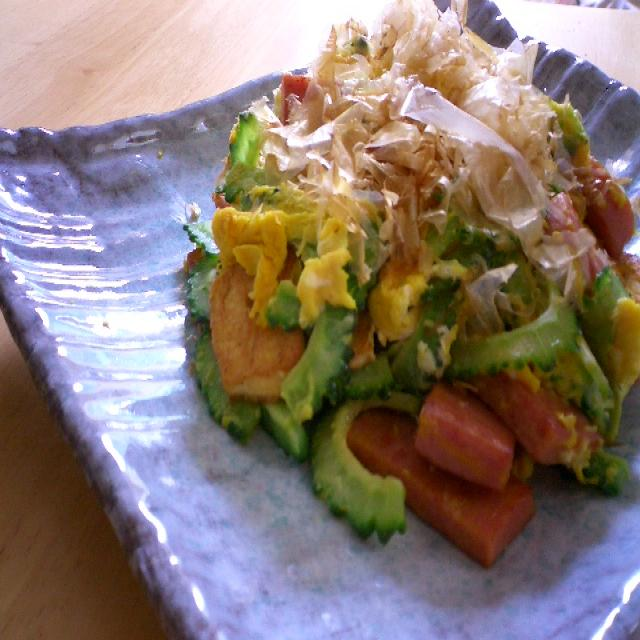熟制海鲜: (2, 0, 640, 635)
